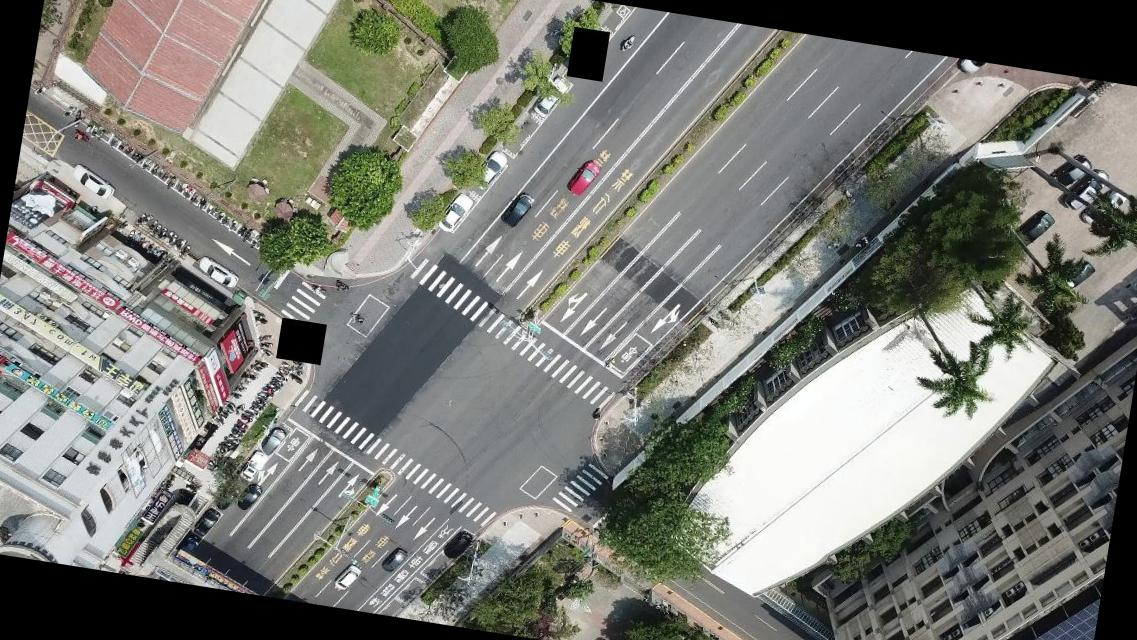vehicle: (1062, 164, 1109, 216), (1048, 148, 1093, 192), (1082, 187, 1126, 230), (68, 162, 117, 200), (1014, 208, 1056, 250), (436, 190, 474, 236), (532, 74, 570, 120), (194, 253, 242, 288), (498, 188, 533, 230), (566, 158, 601, 198), (476, 148, 507, 186), (238, 447, 270, 482), (1062, 257, 1094, 292), (442, 528, 474, 560), (193, 506, 221, 540), (260, 425, 288, 457), (215, 481, 241, 514), (236, 482, 264, 512), (333, 562, 361, 592), (380, 546, 408, 574), (952, 58, 984, 80)
